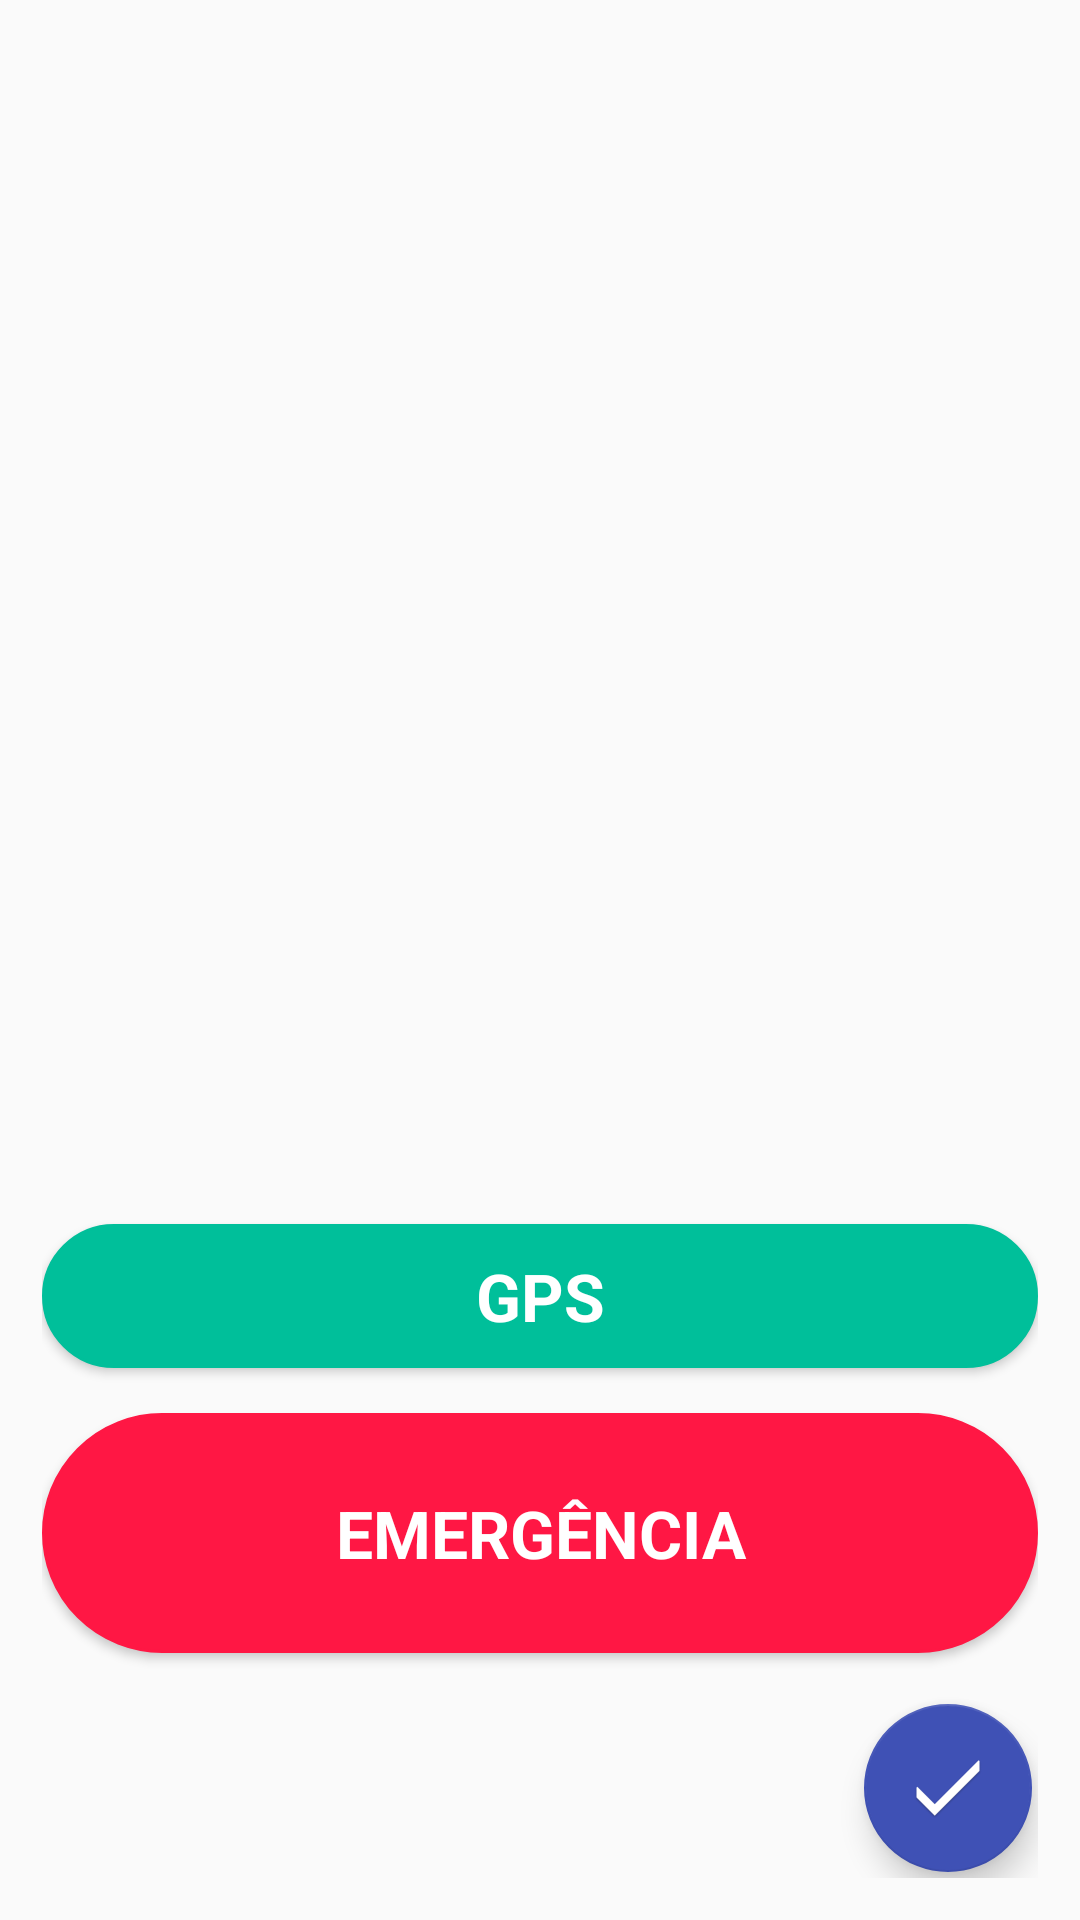

Locate icon controls on the screen. Image size 1080x1920, boxes as (x1,y1,x2,y2).
check out: (864,1704,1032,1872)
